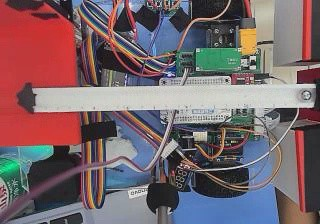ironball: (300, 89, 311, 100)
